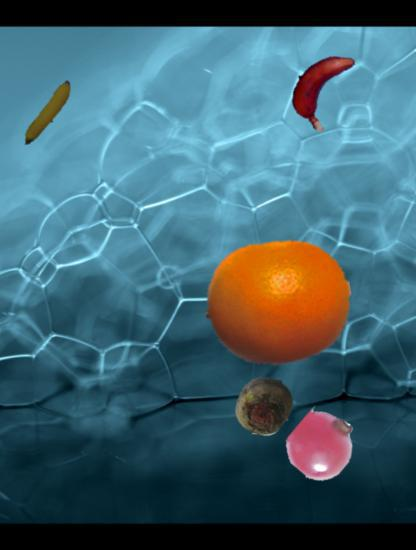Banana: (282, 46, 364, 128), (9, 75, 88, 154)
Beetroot: (232, 374, 296, 438)
Grapefruit: (205, 228, 352, 375)
Redcurrant: (287, 411, 357, 481)
